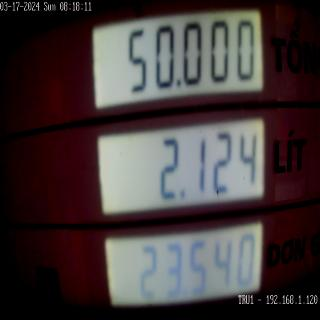screen: (85, 2, 271, 318)
